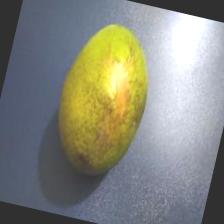Orange Rotten: (29, 6, 176, 206)
